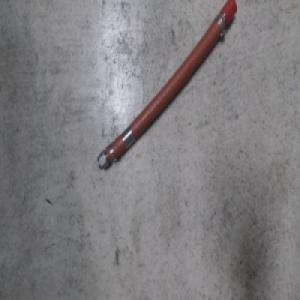Hose: (94, 0, 237, 173)
